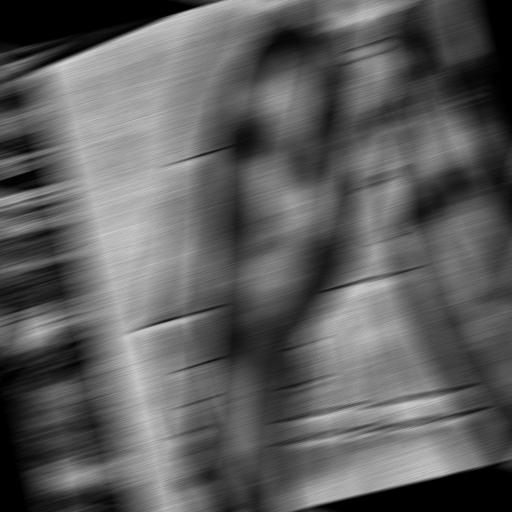house: (73, 0, 512, 511)
top_right: (25, 64, 49, 78)
